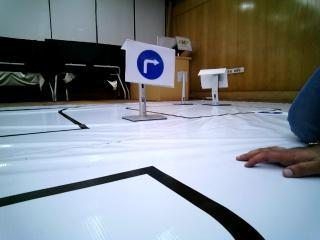right: (129, 43, 172, 85)
